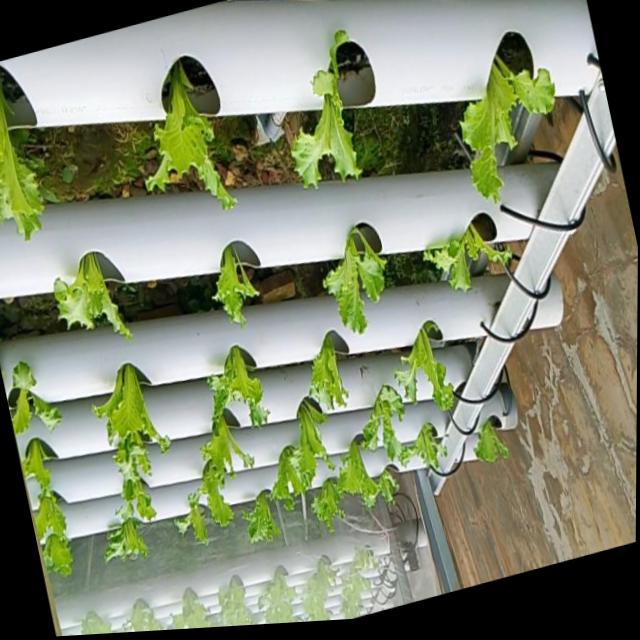Baby: (467, 55, 564, 204), (150, 60, 240, 210), (296, 30, 367, 187), (0, 62, 47, 239), (328, 229, 392, 337), (59, 251, 135, 339), (193, 408, 258, 506), (431, 227, 523, 296), (283, 396, 339, 494), (400, 323, 460, 413), (226, 463, 287, 548), (101, 362, 164, 442), (342, 439, 403, 509), (365, 385, 415, 464), (111, 419, 156, 504), (13, 360, 66, 432), (224, 345, 271, 425), (217, 246, 262, 328), (313, 333, 354, 411), (37, 487, 75, 566), (175, 487, 220, 542), (405, 423, 453, 474), (314, 476, 350, 532), (108, 515, 151, 558), (479, 425, 515, 467)
